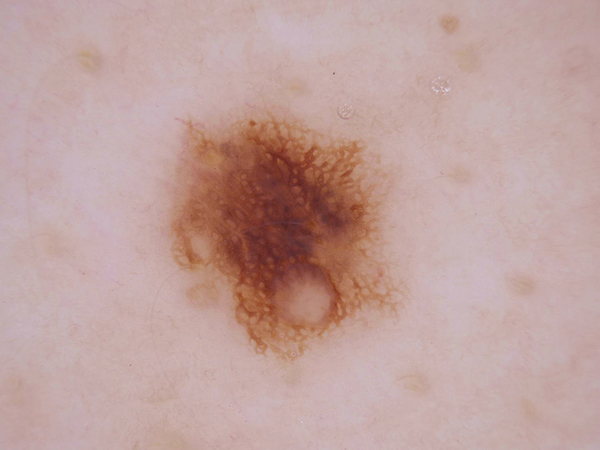Detected Lesion: (170, 112, 406, 364)
